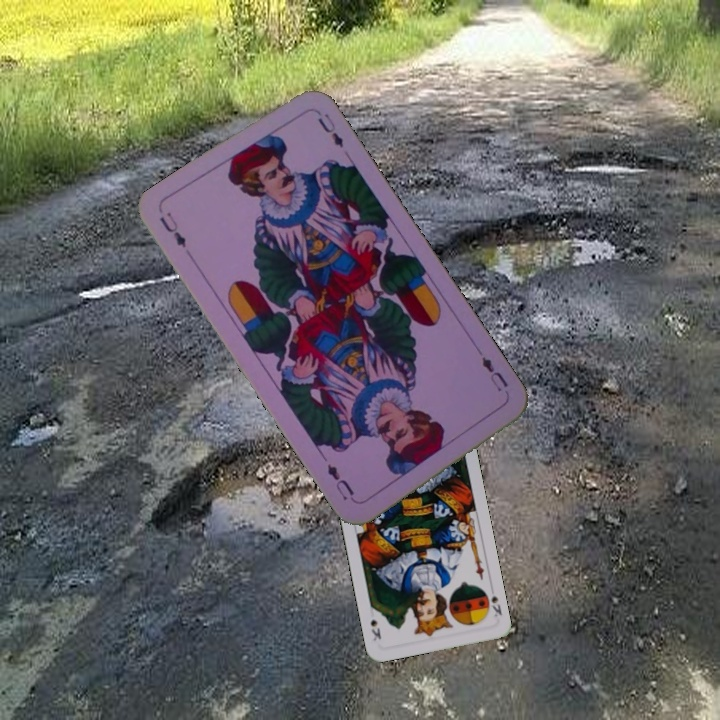EU: (155, 208, 189, 251), (477, 352, 511, 394)
SK: (487, 592, 505, 619)
